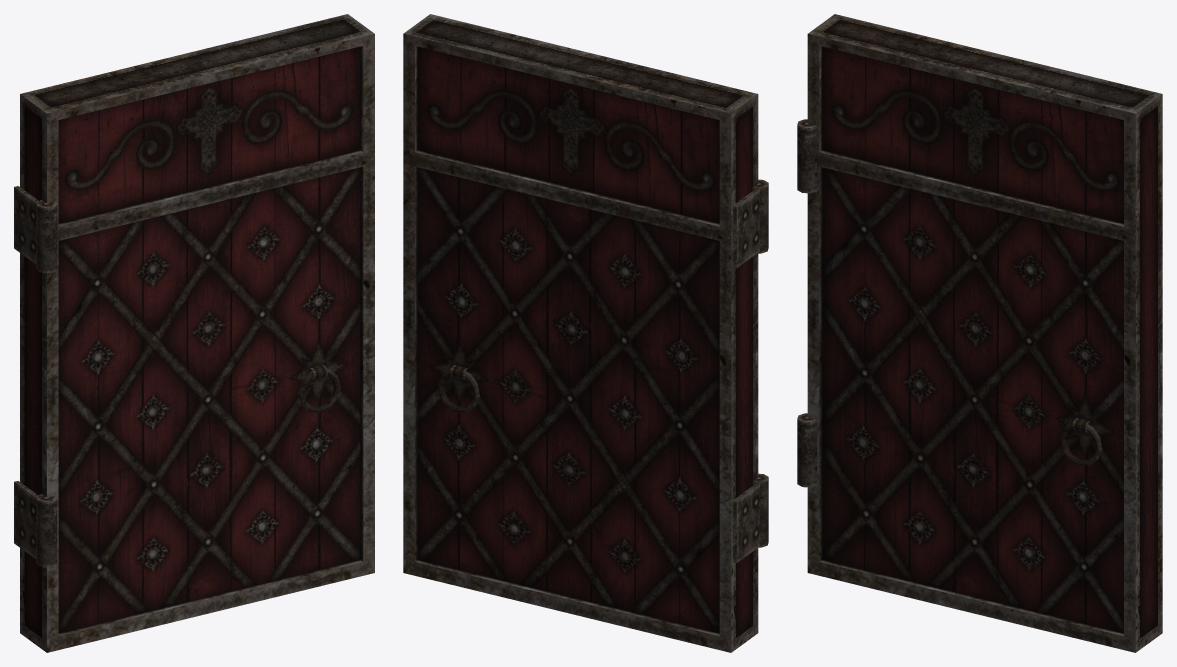
Rendered from level_wood.dae.
3 renders of one model, left to right at view 1: azimuth 30°, elevation 25°; view 2: azimuth 150°, elevation 25°; view 3: azimuth 330°, elevation 25°, orthographic.
Visible parts, largest first — view 1: polySurface1; view 2: polySurface1; view 3: polySurface1.
Boxes of the visible parts, left/top/right/bottom form: polySurface1: left=14, top=14, right=374, bottom=652; polySurface1: left=403, top=14, right=768, bottom=652; polySurface1: left=797, top=14, right=1162, bottom=652.
Bounding box in the file's own units: 1.8 × 2.75 × 0.3162.
